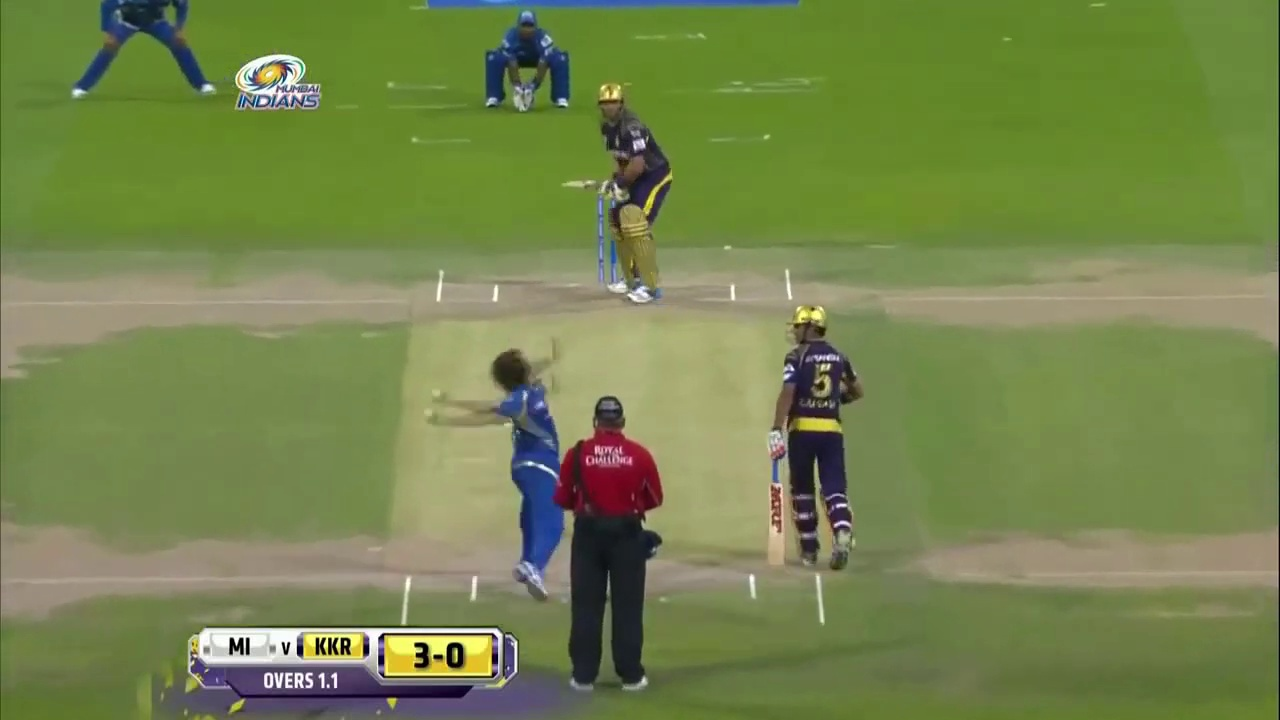bat: (768, 460, 788, 569)
